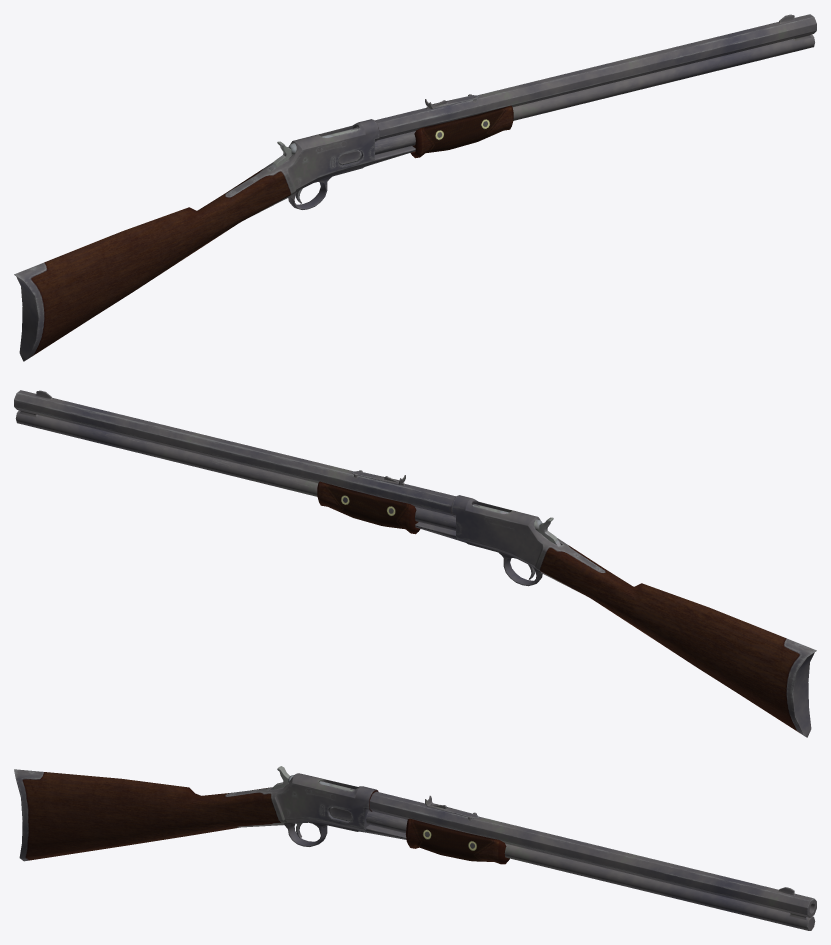
The model's file is lightning.glb.
3 renders of one model, top to bottom at view 1: azimuth 30°, elevation 25°; view 2: azimuth 150°, elevation 25°; view 3: azimuth 330°, elevation 25°, orthographic.
Visible parts, largest first — view 1: Body, Pump; view 2: Body, Pump; view 3: Body, Pump.
Boxes of the visible parts, x1=… form: Body: x1=14, y1=14, x2=816, y2=361; Pump: x1=288, y1=105, x2=513, y2=158; Body: x1=14, y1=390, x2=816, y2=737; Pump: x1=317, y1=481, x2=542, y2=534; Body: x1=14, y1=769, x2=816, y2=930; Pump: x1=288, y1=775, x2=509, y2=864.
Size of the model in its own units: 0.9 by 0.1752 by 0.032.
1 material, 1 textured.
